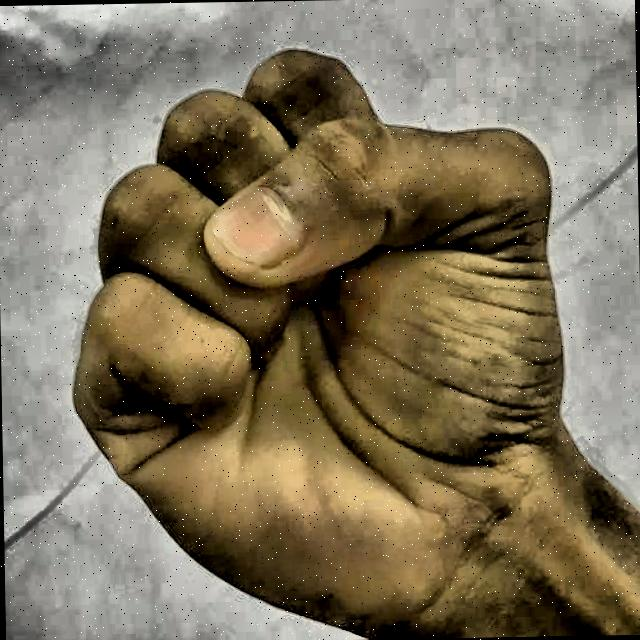Sha: (44, 26, 611, 640)
